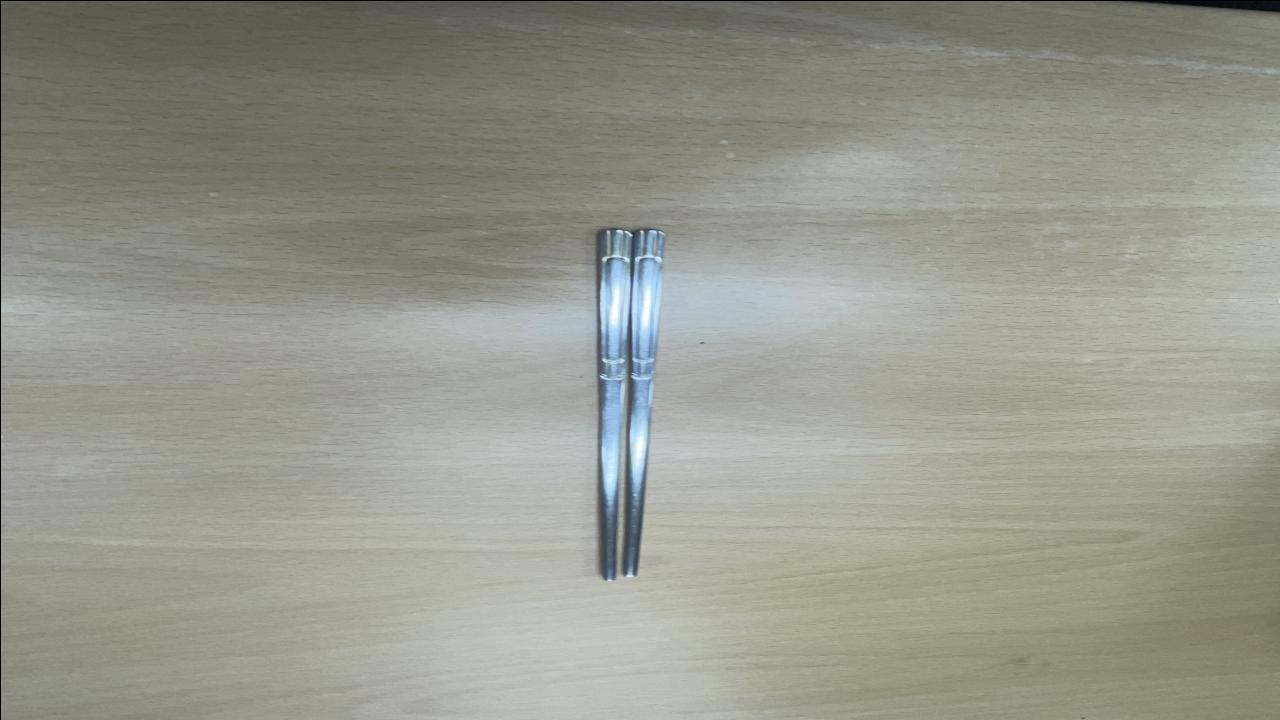chopstick: (593, 223, 670, 583)
